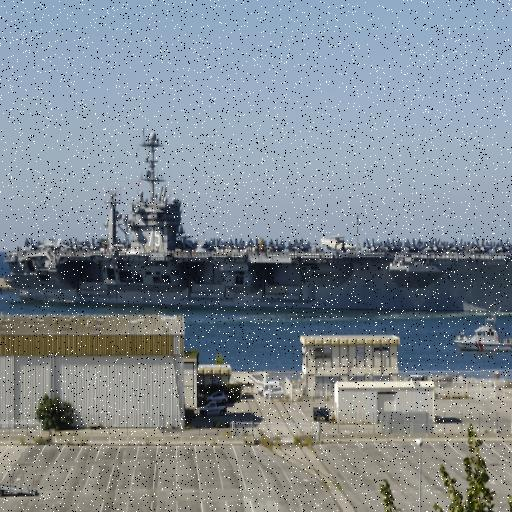Portanaves: (6, 121, 512, 311)
